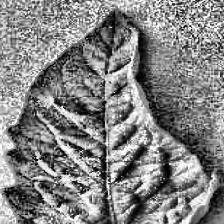spider mites: (2, 8, 214, 224)
